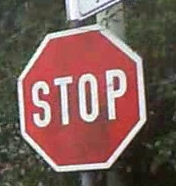stop: (16, 24, 144, 173)
